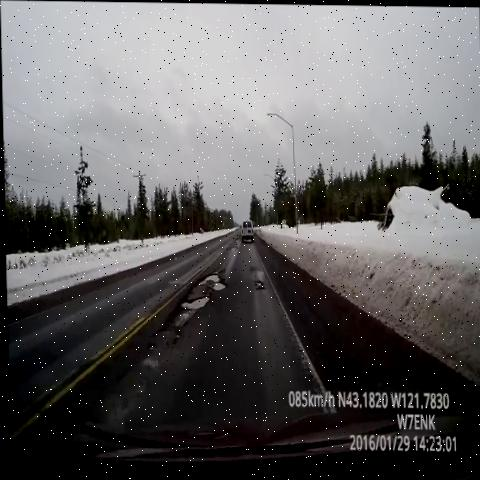pothole: (193, 260, 233, 295), (171, 289, 212, 323), (246, 269, 272, 302), (225, 243, 240, 259), (231, 233, 242, 247)
